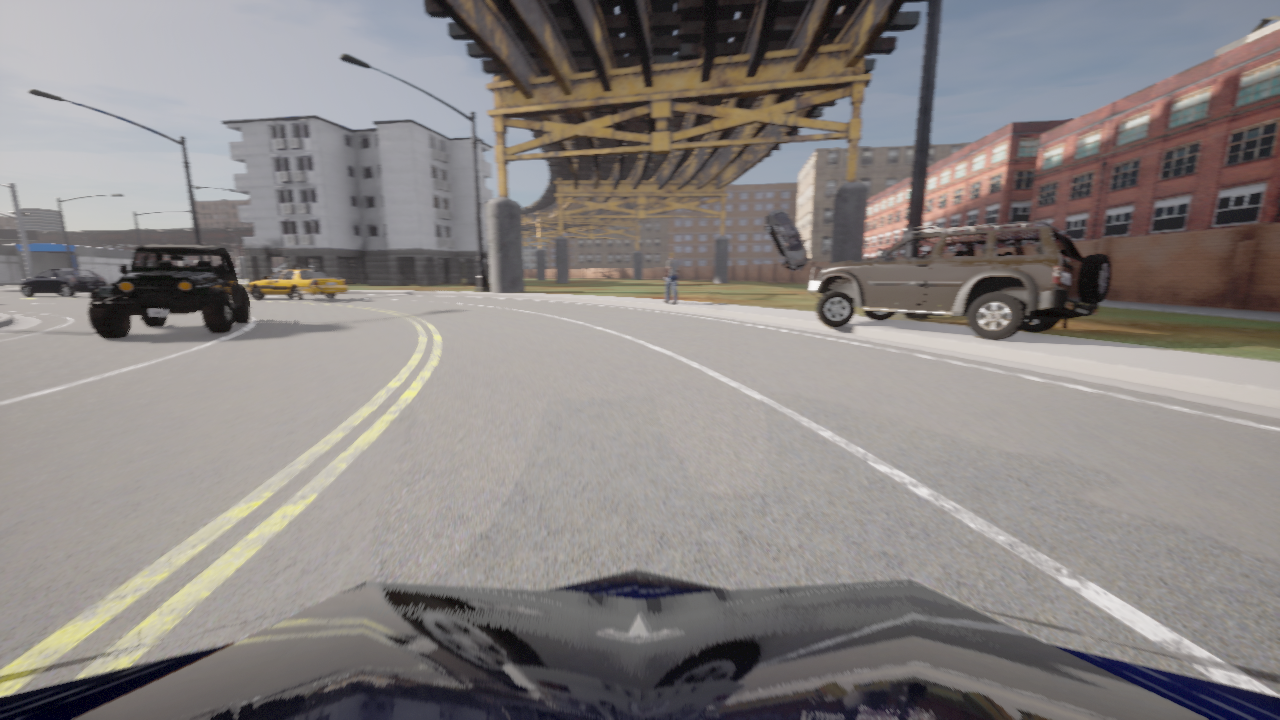cyclist: (0, 569, 1279, 719), (808, 222, 1111, 340), (88, 244, 250, 338), (246, 266, 346, 300), (764, 209, 809, 271), (20, 269, 106, 296)
pedestrian: (664, 252, 678, 303)
